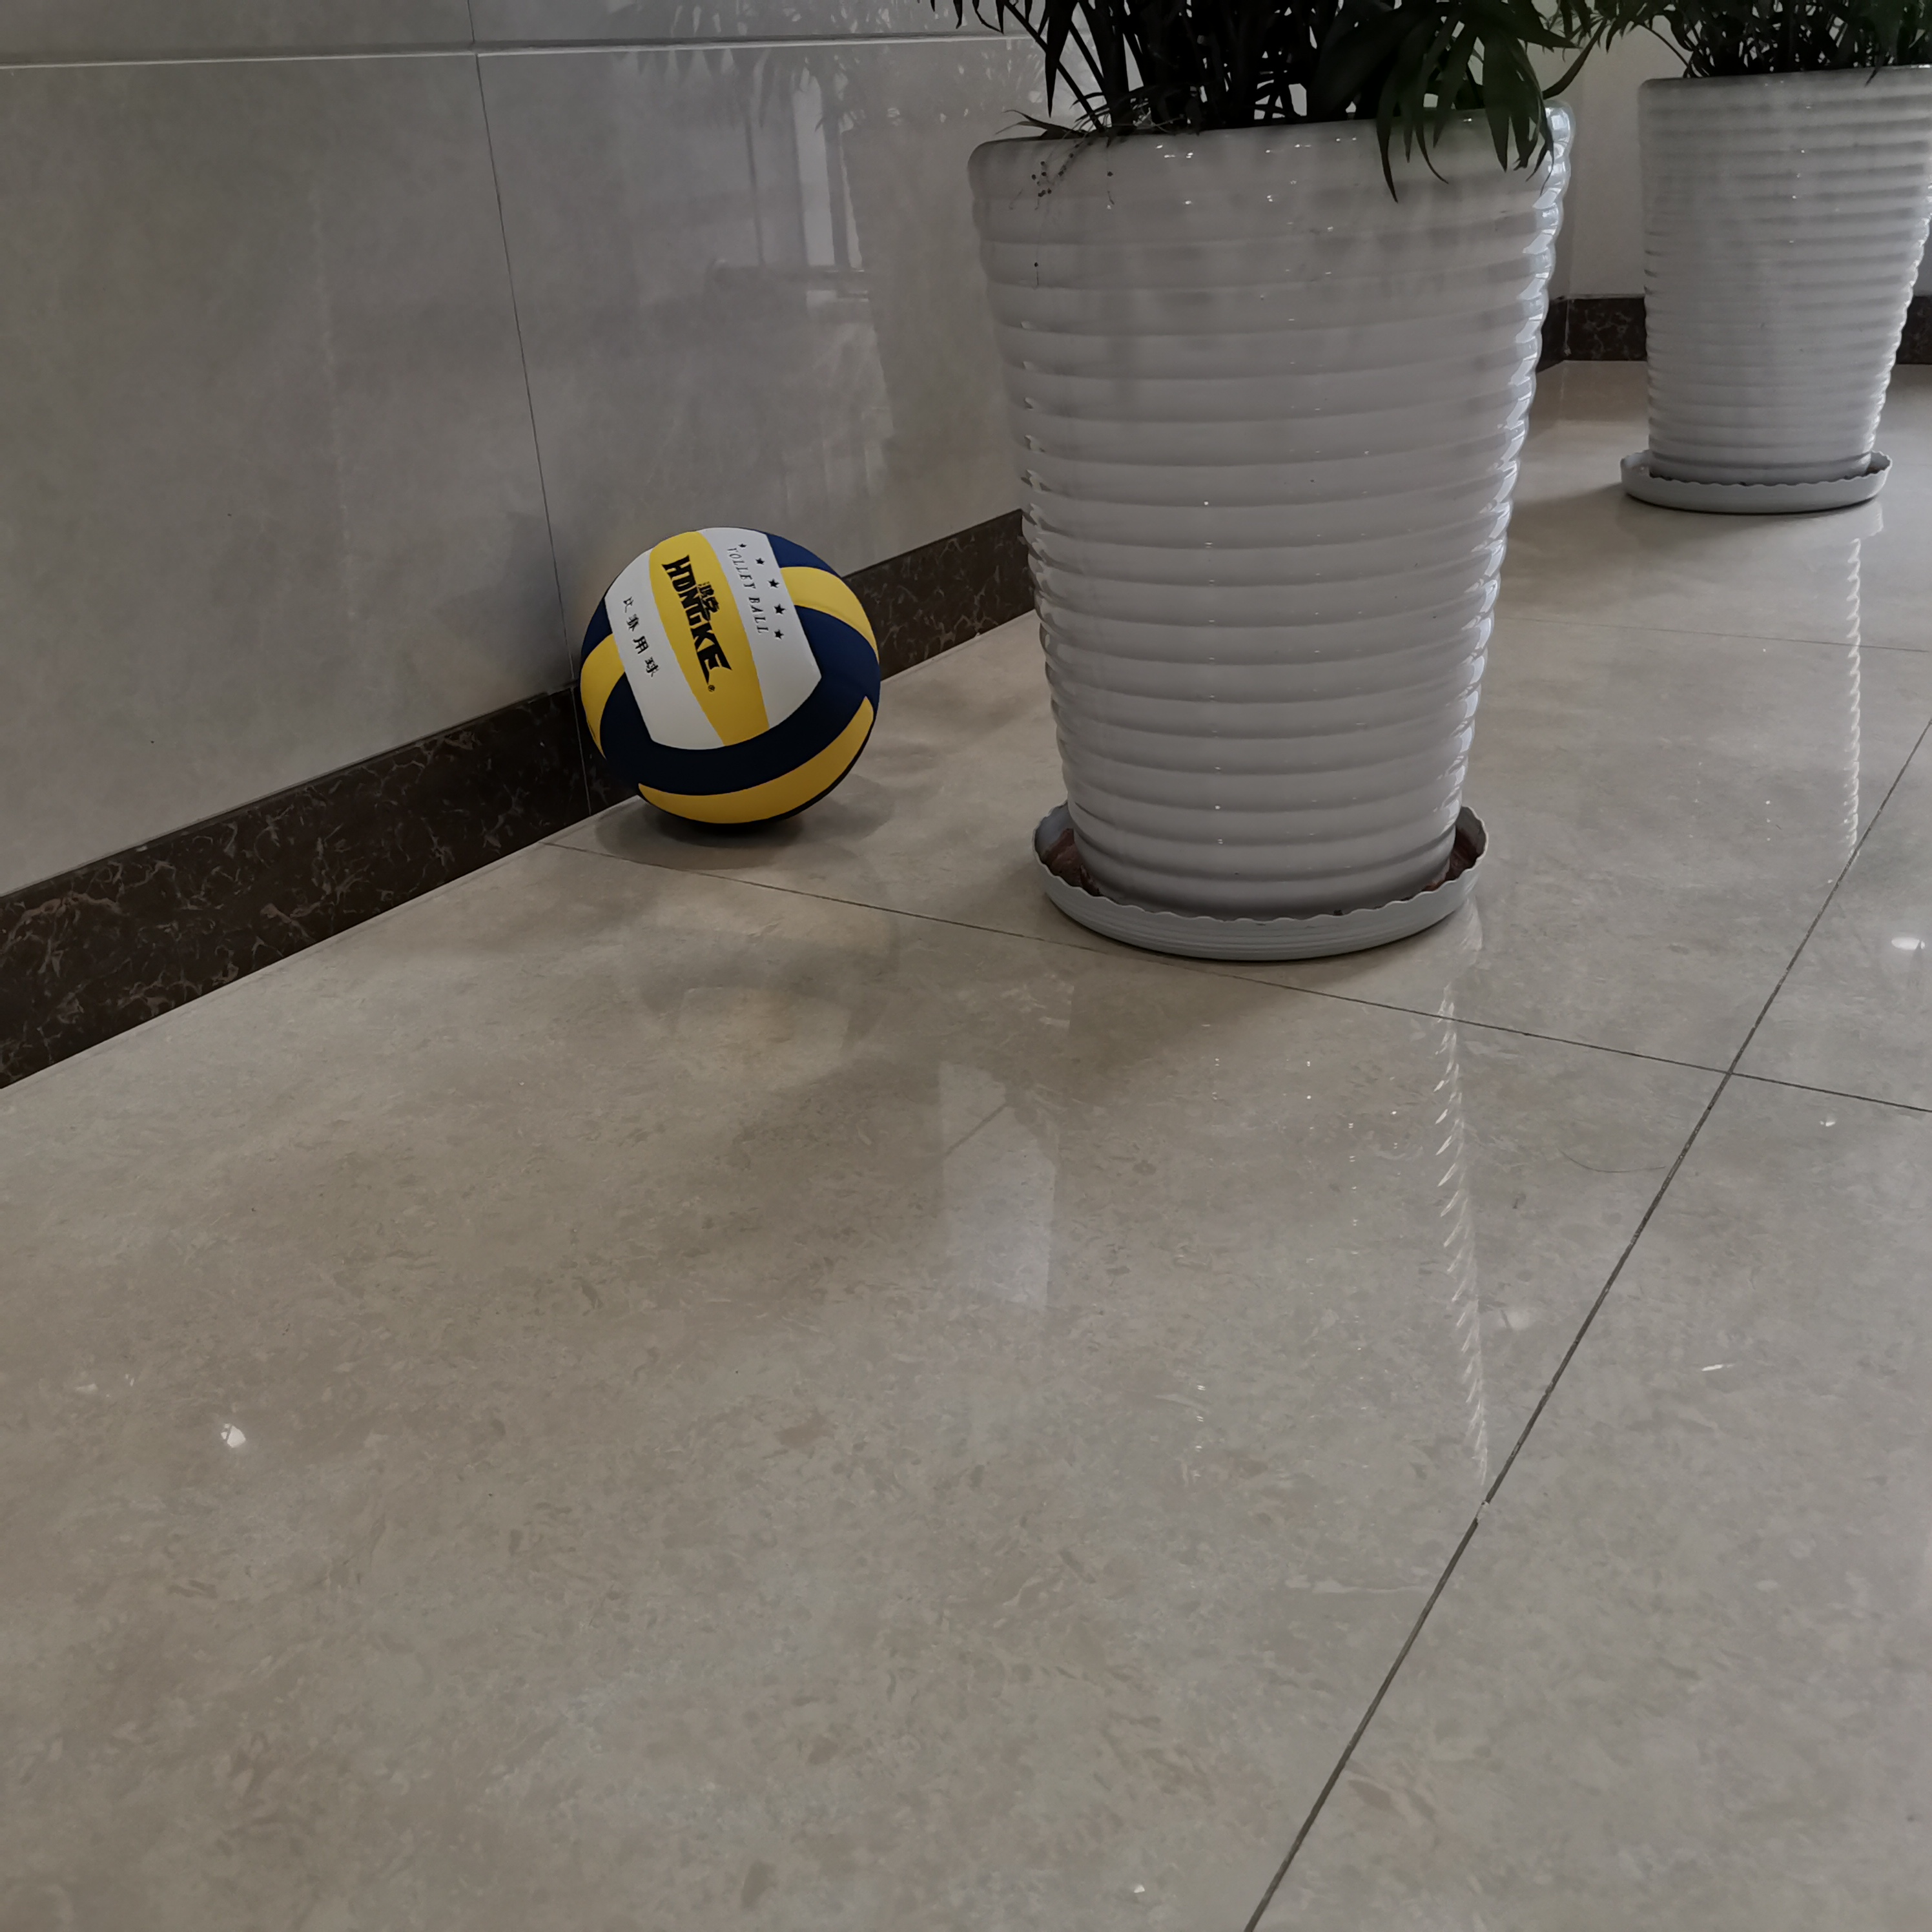volleyball: (579, 527, 885, 837)
